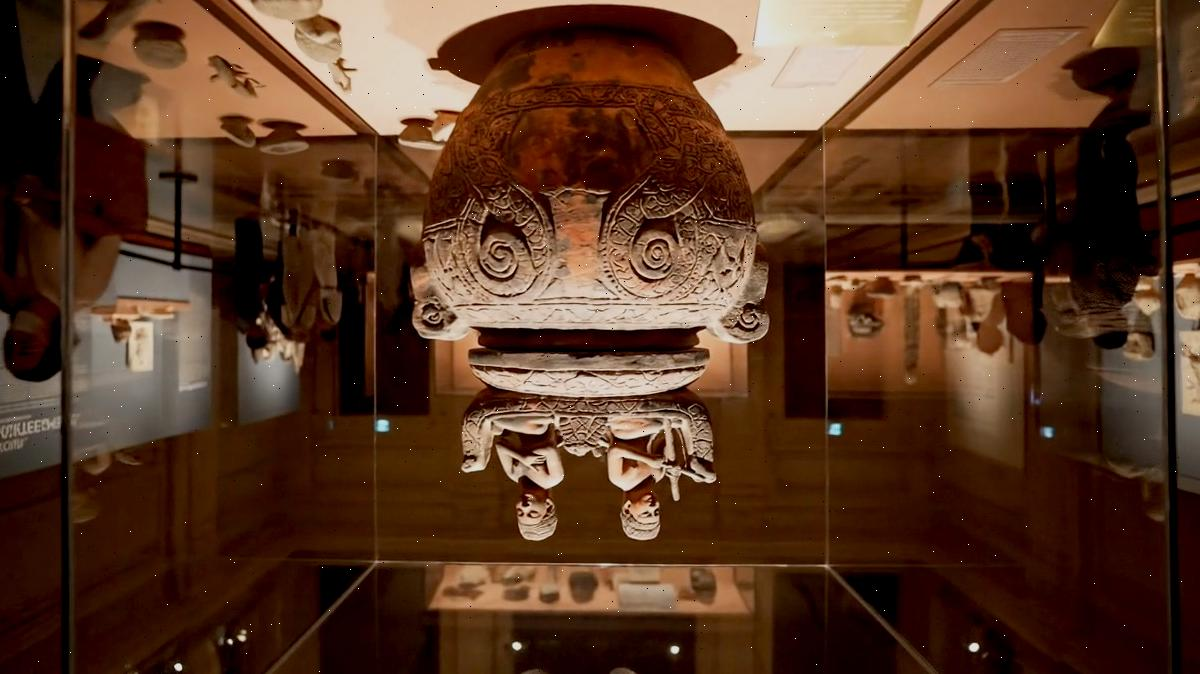manunggul_jar: (393, 13, 795, 548)
